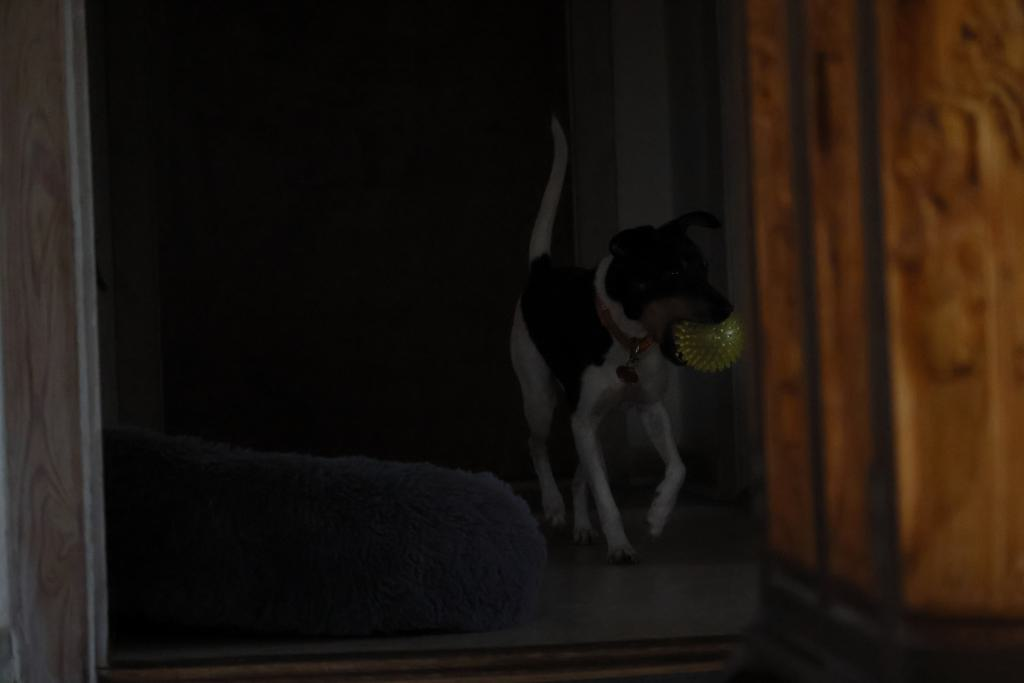Dog: (476, 105, 767, 580)
